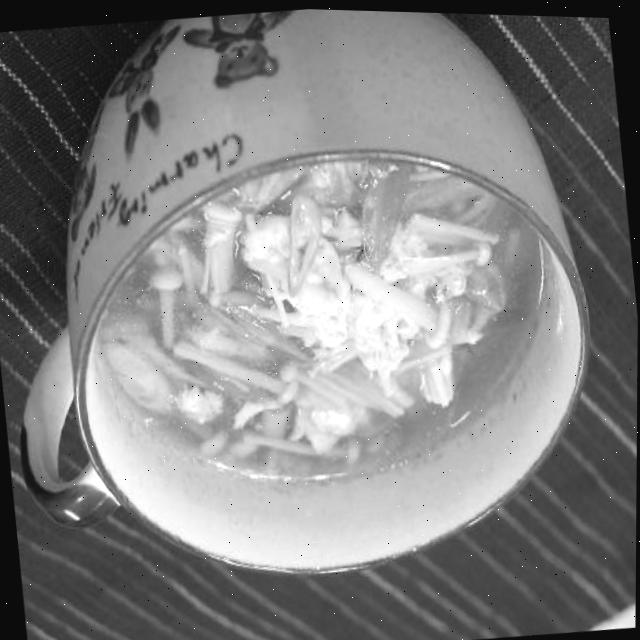汤锅炖物: (0, 0, 627, 627)
